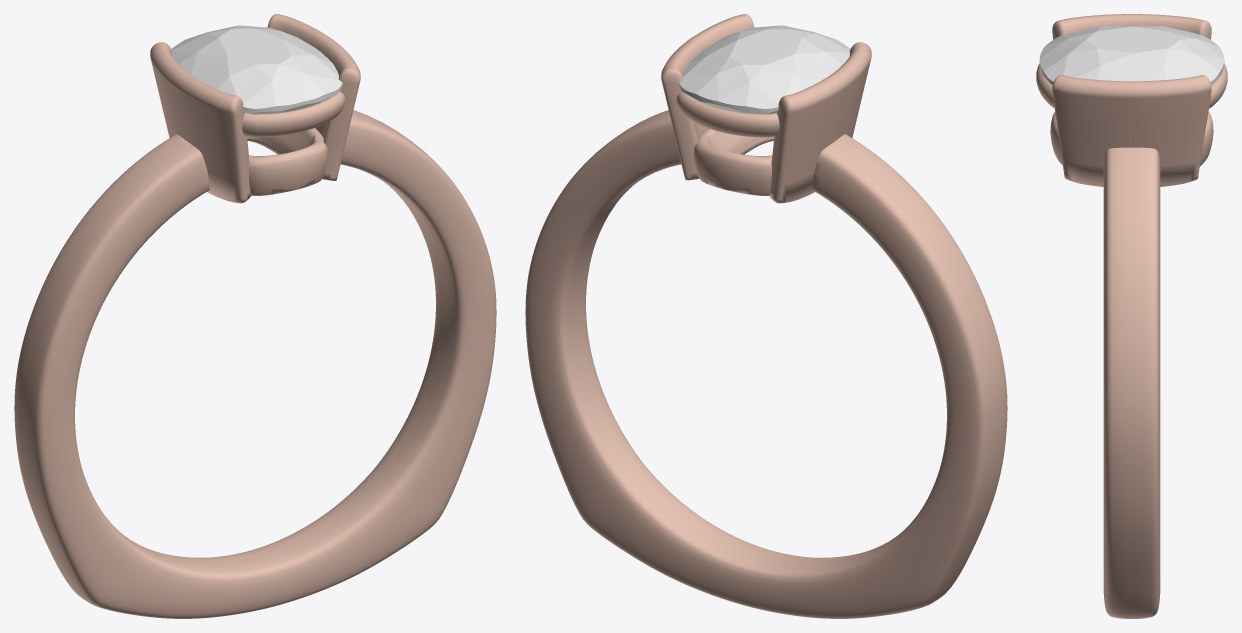
Rendered from diamond-cushion-rosegold-halfmoonbezel-europeanshank-nosidestones.glb.
3 views of the same model, side by side, from view 1: azimuth 30°, elevation 25°; view 2: azimuth 150°, elevation 25°; view 3: azimuth 270°, elevation 25° (orthographic). The views are drawn at different scales.
Parts seen in each view (by area): view 1: metal.002, stone; view 2: metal.002, stone; view 3: metal.002, stone.
Part boxes in pixels (bbox=[...]): metal.002: bbox=[14, 14, 496, 618]; stone: bbox=[171, 25, 342, 114]; metal.002: bbox=[525, 14, 1007, 618]; stone: bbox=[679, 25, 850, 114]; metal.002: bbox=[1036, 14, 1227, 618]; stone: bbox=[1039, 26, 1224, 84].
Size of the model in its own units: 20.11 by 23.04 by 7.42.
